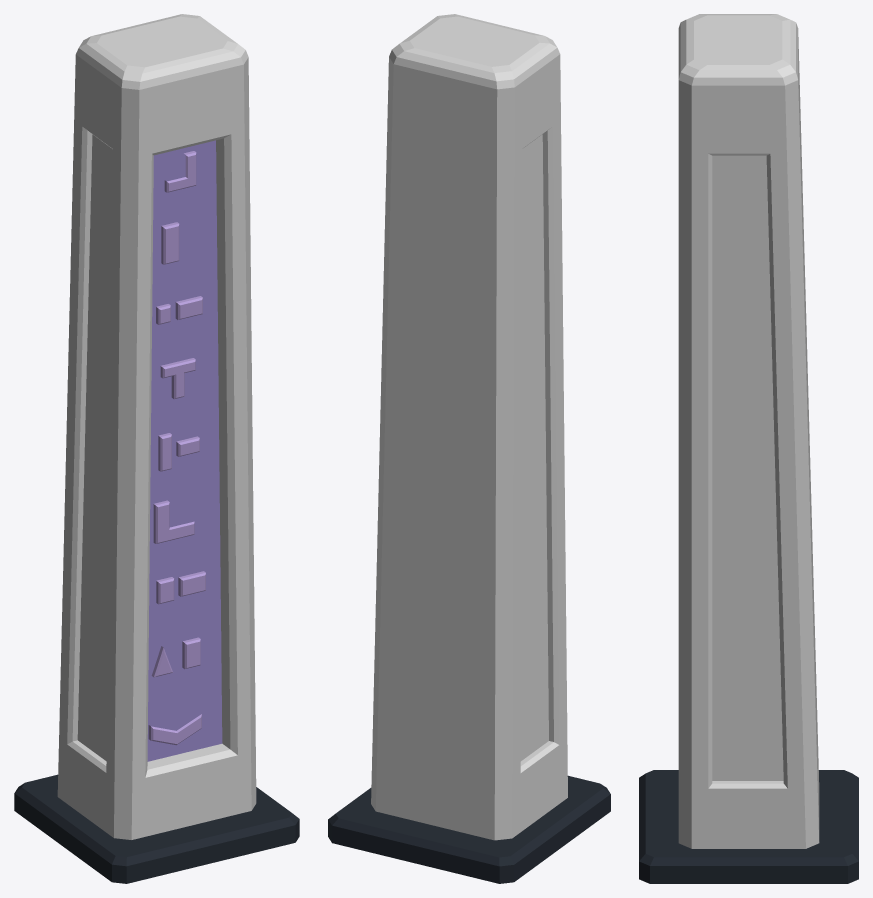
The model's file is neon-sign-pylon-dcc03c.glb.
3 renders of one model, left to right at view 1: azimuth 30°, elevation 25°; view 2: azimuth 150°, elevation 25°; view 3: azimuth 270°, elevation 25°, orthographic. The views are drawn at different scales.
Visible parts, largest first — view 1: neon-sign-pylon-body; view 2: neon-sign-pylon-body; view 3: neon-sign-pylon-body.
Boxes of the visible parts, bbox=[...] form: neon-sign-pylon-body: bbox=[14, 14, 299, 883]; neon-sign-pylon-body: bbox=[328, 14, 610, 883]; neon-sign-pylon-body: bbox=[639, 14, 858, 883].
Size of the model in its own units: 1 by 4 by 1.
